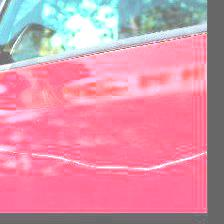door_scratch: (0, 134, 206, 173)
